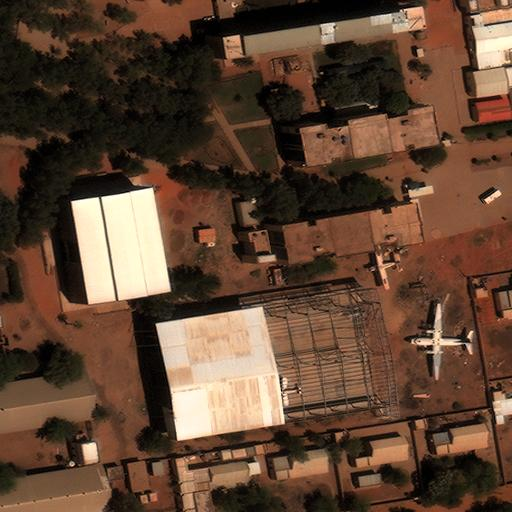Medium Civil Transport: (368, 250, 400, 289)
Military Transport: (408, 303, 474, 379)
Small Civil Transport: (277, 377, 300, 406)
